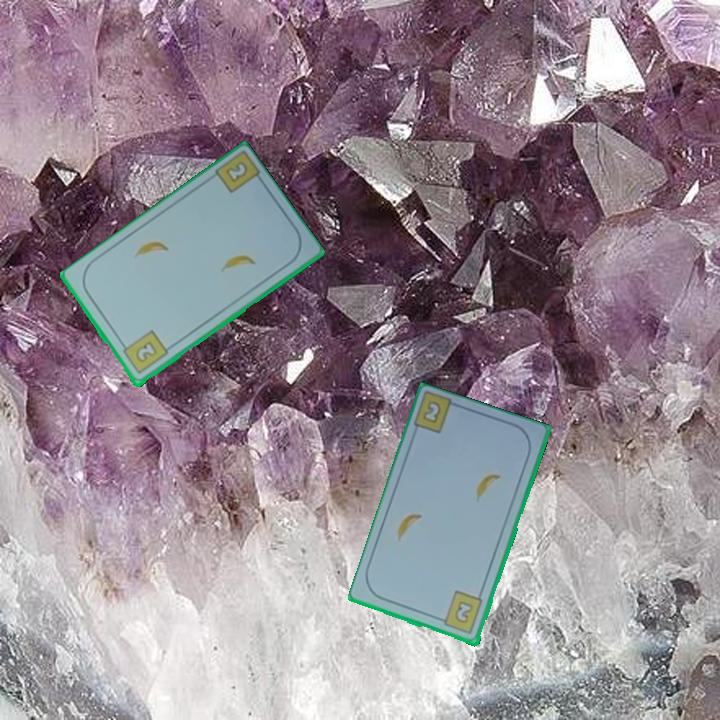2b: (118, 327, 171, 378), (435, 588, 485, 637), (222, 158, 251, 186), (419, 398, 444, 427)
